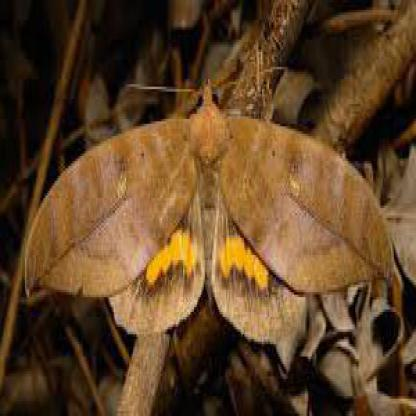fruit sucking moth: (24, 81, 397, 344)
